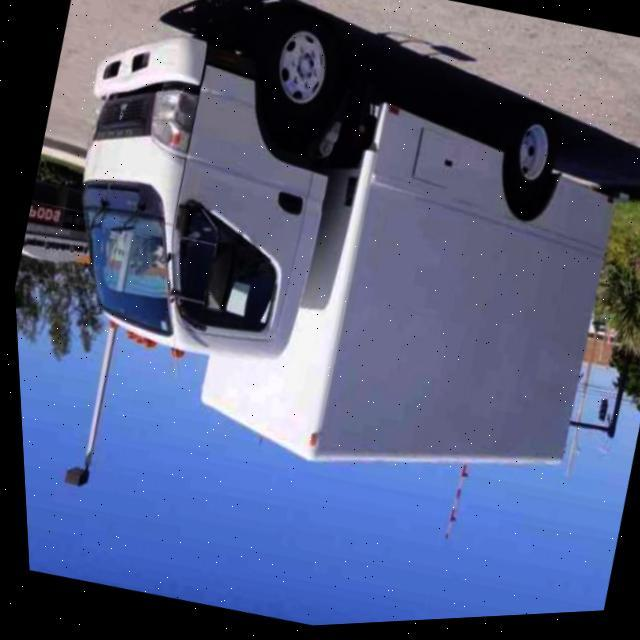truck: (7, 0, 640, 537)
